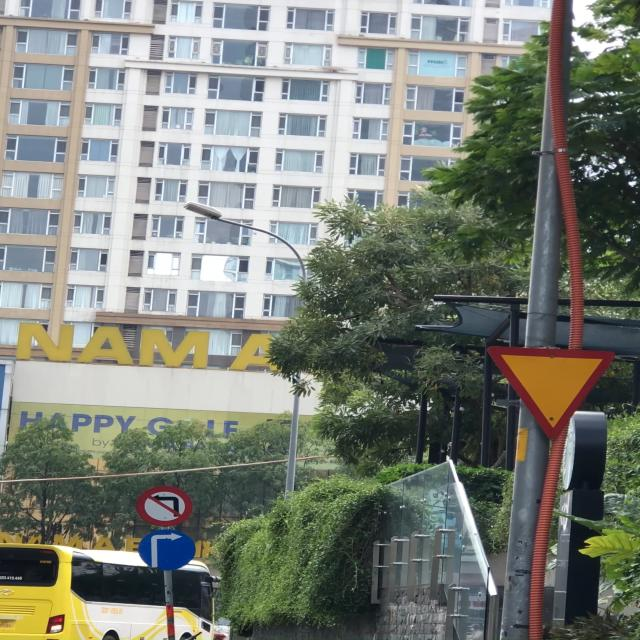Bien bao cam re trai: (131, 483, 198, 529)
Bien bao giao nhau voi duong uu tien: (478, 341, 617, 444)
Bien bao huong di phai theo: (136, 529, 199, 575)
